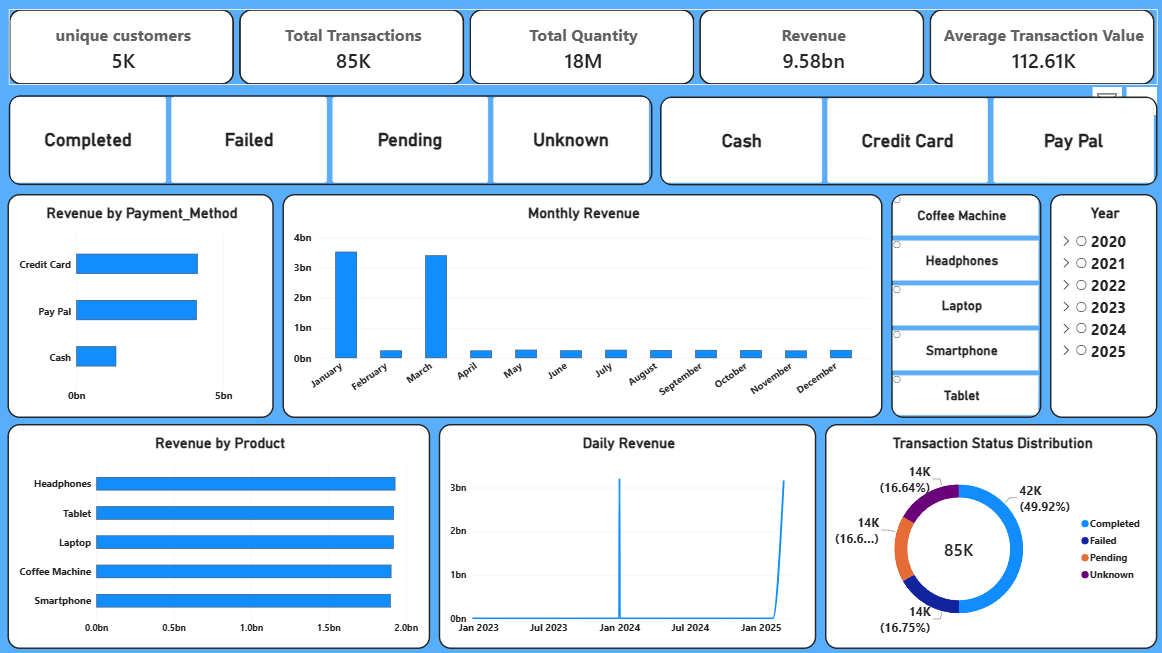

Layout of this report page (visuals, bound fields, positions):
{"tool":"powerbi","page":{"name":"Page 1","canvas":[1920,1080],"ordinal":0},"visuals":[{"type":"cardVisual","fields":{"Data":["cleaned_financial_transaction.unique customers","cleaned_financial_transaction.Total Transactions","cleaned_financial_transaction.Total Quantity","cleaned_financial_transaction.Revenue","cleaned_financial_transaction.Average Transaction Value"]},"box":[14.4,16.5,1891.6,125.6],"z":0},{"type":"lineChart","title":"Daily Revenue","fields":{"Y":["cleaned_financial_transaction.Revenue"],"Category":["cleaned_financial_transaction.Transaction_Date.Variation.Date Hierarchy.Year","cleaned_financial_transaction.Transaction_Date.Variation.Date Hierarchy.Quarter","cleaned_financial_transaction.Transaction_Date.Variation.Date Hierarchy.Month","cleaned_financial_transaction.Transaction_Date.Variation.Date Hierarchy.Day"]},"box":[722.5,699.8,621.6,370.5],"z":1000},{"type":"clusteredColumnChart","title":"Monthly Revenue","fields":{"Y":["cleaned_financial_transaction.Revenue"],"Category":["cleaned_financial_transaction.Transaction_Date.Variation.Date Hierarchy.Month"]},"box":[465.2,321.1,988,368.4],"z":2000},{"type":"donutChart","title":"Transaction Status Distribution","fields":{"Category":["cleaned_financial_transaction.Transaction_Status"],"Y":["cleaned_financial_transaction.Total Transactions"]},"box":[1358.5,699.8,547.5,370.5],"z":3000},{"type":"barChart","title":"Revenue by Product","fields":{"Category":["cleaned_financial_transaction.Product_Name"],"Y":["cleaned_financial_transaction.Revenue"]},"box":[12.3,699.8,695.7,370.5],"z":4000},{"type":"barChart","fields":{"Category":["cleaned_financial_transaction.Payment_Method"],"Y":["cleaned_financial_transaction.Revenue"]},"box":[12.3,321.1,438.4,368.4],"z":5000},{"type":"listSlicer","fields":{"Values":["cleaned_financial_transaction.Transaction_Date.Variation.Date Hierarchy.Year","cleaned_financial_transaction.Transaction_Date.Variation.Date Hierarchy.Quarter","cleaned_financial_transaction.Transaction_Date.Variation.Date Hierarchy.Month","cleaned_financial_transaction.Transaction_Date.Variation.Date Hierarchy.Day"]},"box":[1729,321.1,177,368.4],"z":6000},{"type":"advancedSlicerVisual","fields":{"Values":["cleaned_financial_transaction.Product_Name"]},"box":[1467.6,321.1,247,368.4],"z":7000},{"type":"advancedSlicerVisual","fields":{"Values":["cleaned_financial_transaction.Payment_Method"]},"box":[1086.8,160.5,819.2,146.1],"z":8000},{"type":"advancedSlicerVisual","fields":{"Values":["cleaned_financial_transaction.Transaction_Status"]},"box":[14.4,158.5,1060,148.2],"z":9000}]}

Visuals, with their boxes in screenshot pixels (x1, y1, x2, y2), scaled from the page's 1920x1080 canvas onto the 1162x653 screenshot:
cardVisual - cleaned_financial_transaction.unique customers x cleaned_financial_transaction.Total Transactions: 9/10/1154/86
"Daily Revenue" lineChart: 437/423/813/647
"Monthly Revenue" clusteredColumnChart: 282/194/879/417
"Transaction Status Distribution" donutChart: 822/423/1154/647
"Revenue by Product" barChart: 7/423/428/647
barChart - cleaned_financial_transaction.Payment_Method x cleaned_financial_transaction.Revenue: 7/194/273/417
listSlicer - cleaned_financial_transaction.Transaction_Date.Variation.Date Hierarchy.Year x cleaned_financial_transaction.Transaction_Date.Variation.Date Hierarchy.Quarter: 1046/194/1154/417
advancedSlicerVisual - cleaned_financial_transaction.Product_Name: 888/194/1038/417
advancedSlicerVisual - cleaned_financial_transaction.Payment_Method: 658/97/1154/185
advancedSlicerVisual - cleaned_financial_transaction.Transaction_Status: 9/96/650/185
